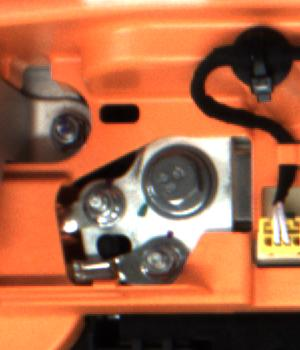nut_b: (140, 145, 220, 223)
